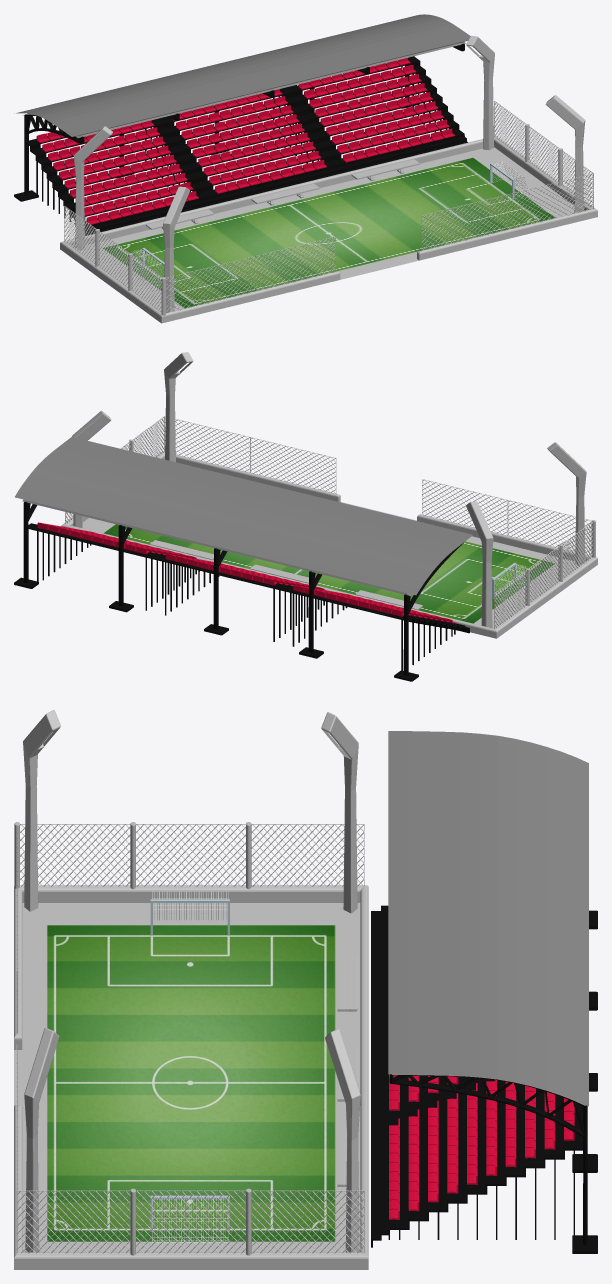
Rendered from bong.glb.
3 views of the same model, one above another, from view 1: azimuth 30°, elevation 25°; view 2: azimuth 150°, elevation 25°; view 3: azimuth 270°, elevation 25° (orthographic). The views are drawn at different scales.
Parts seen in each view (by area): view 1: court; view 2: court; view 3: court.
Part boxes in pixels (box(x1,y1,x2,y2)): court: box(14, 14, 597, 323); court: box(14, 352, 597, 681); court: box(14, 710, 597, 1269).
Size of the model in its own units: 95 by 25.25 by 62.98.
Materials: 7 (3 with a texture image).
